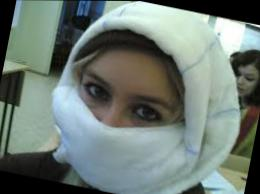NONE: (230, 68, 260, 99)
WRONG: (64, 54, 183, 185)
